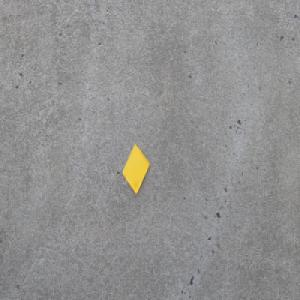PlasticPart: (122, 143, 150, 194)
